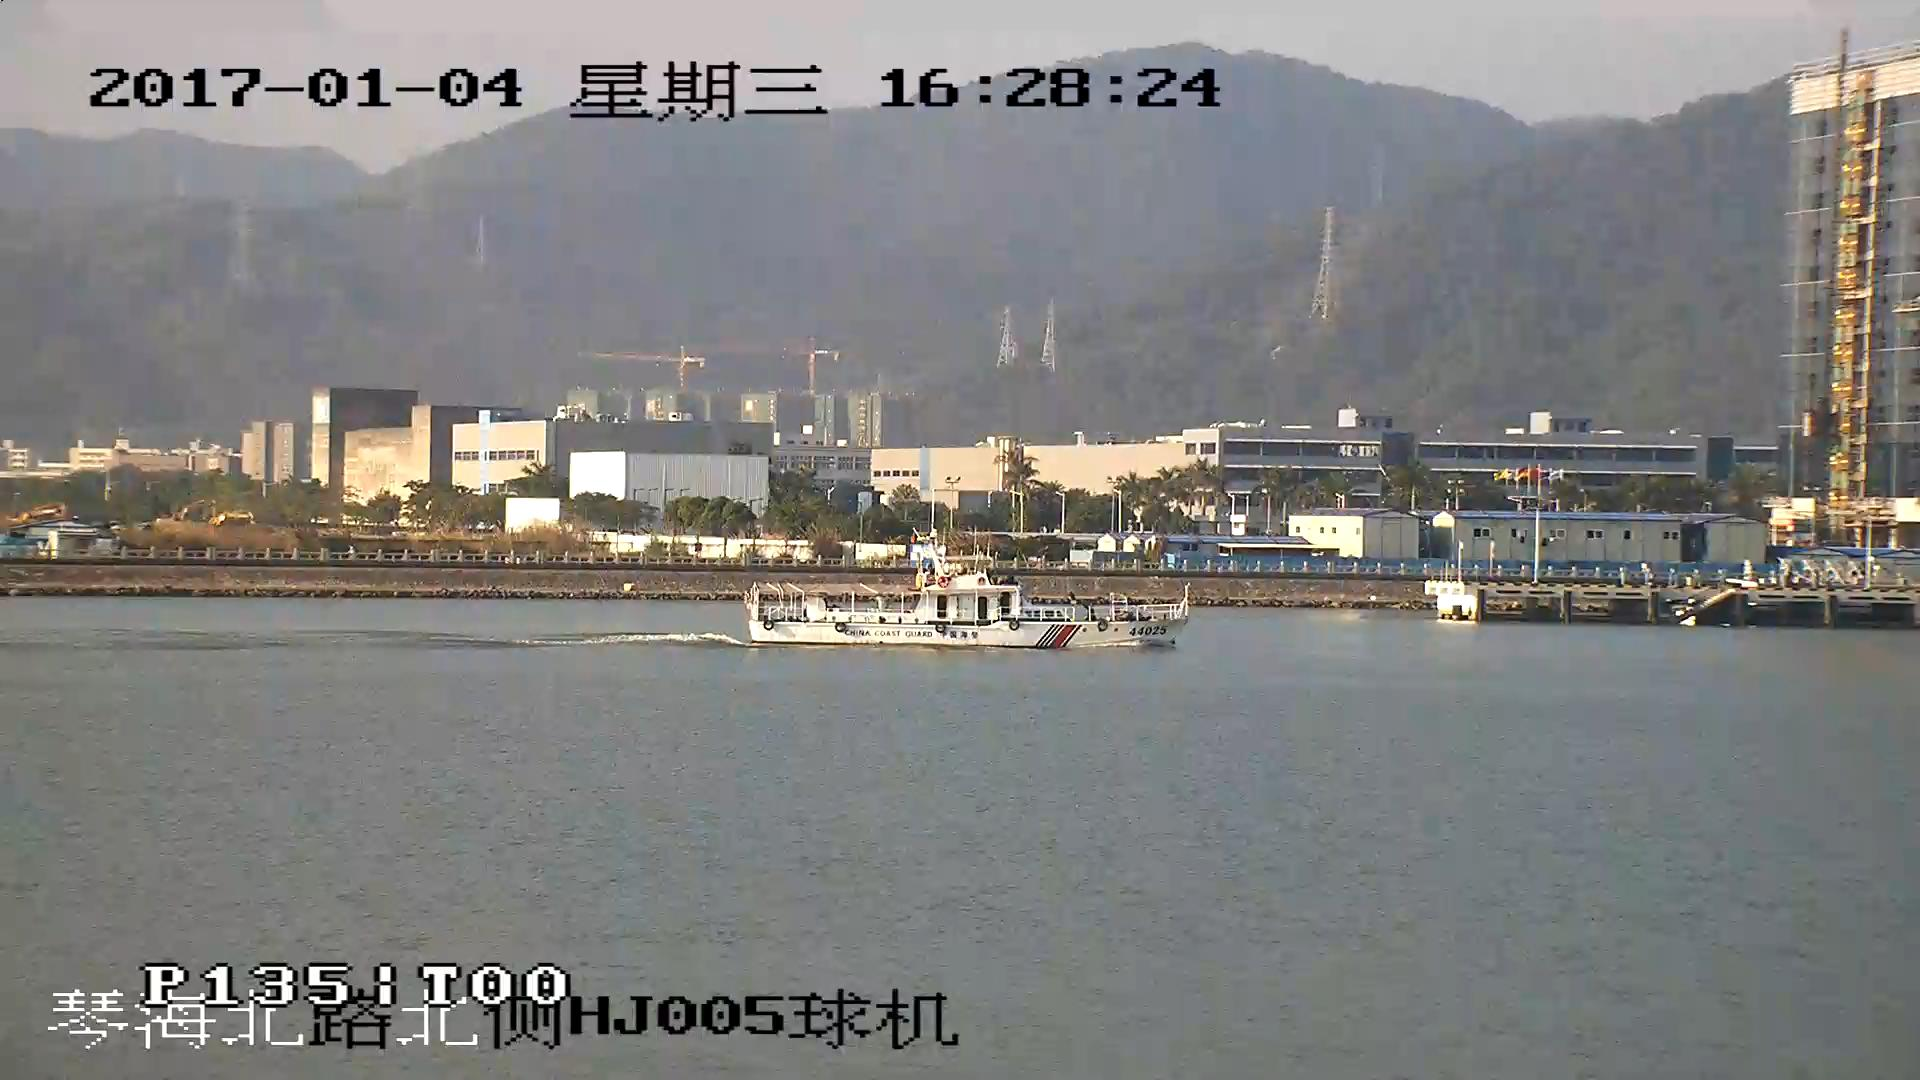passenger ship: (748, 540, 1188, 648)
